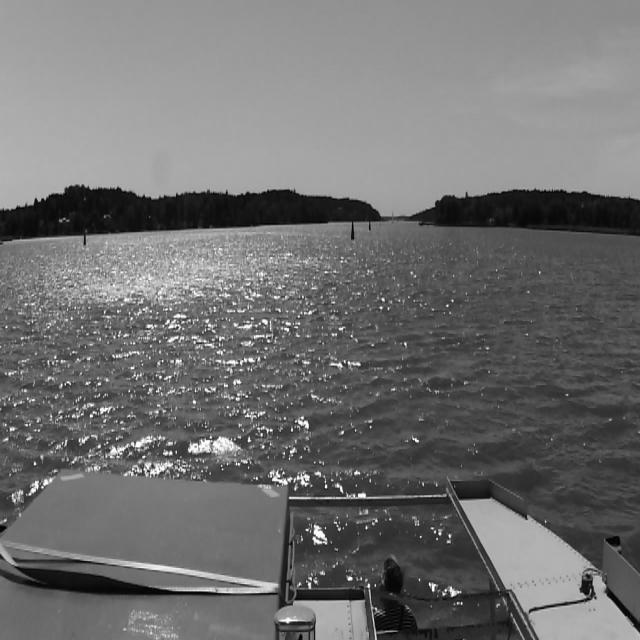buoy: (351, 221, 355, 239), (84, 233, 86, 245), (369, 220, 371, 230)
